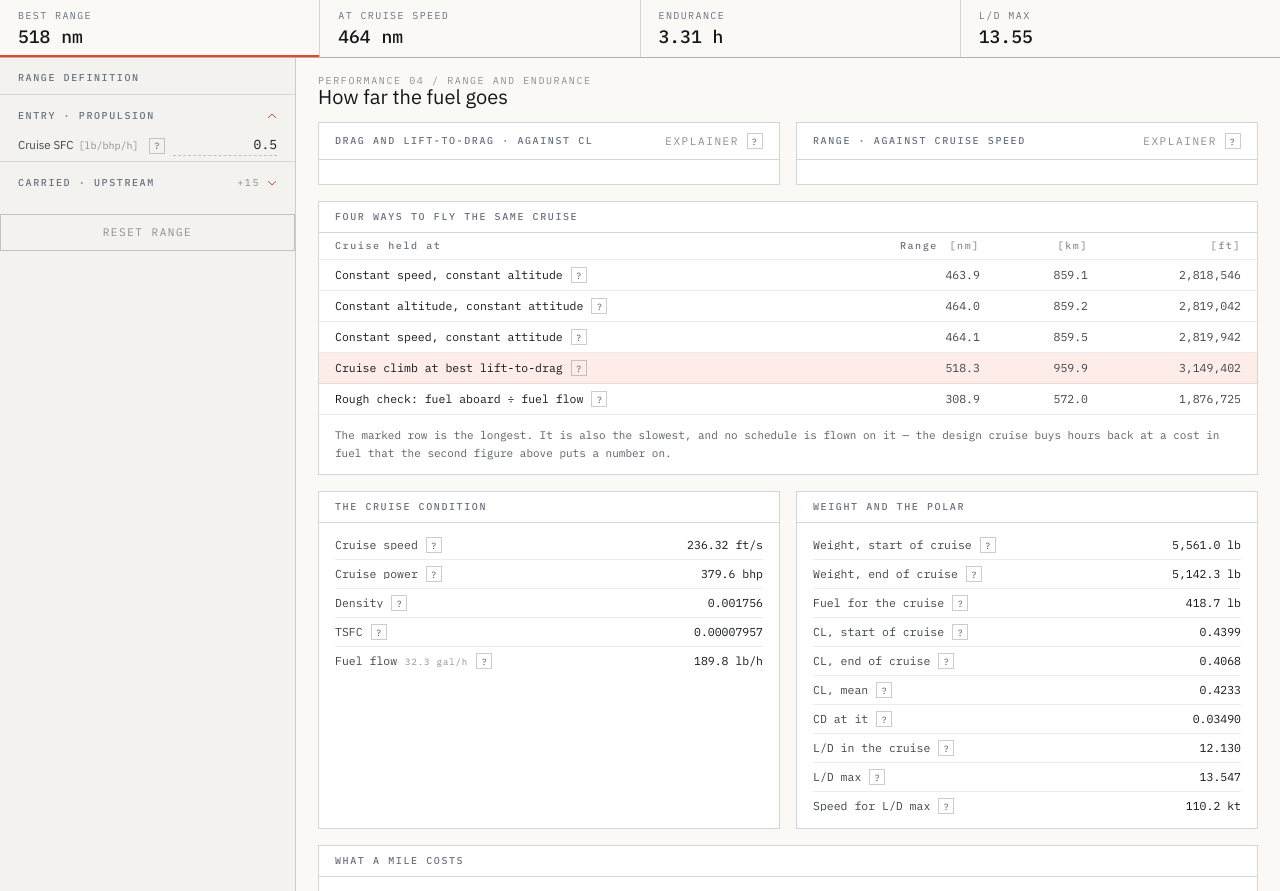
it: Range › resets the Range-owned SFC to provisional
Click the button "RESET RANGE" at coordinates (148, 232), box [0, 214, 295, 251]
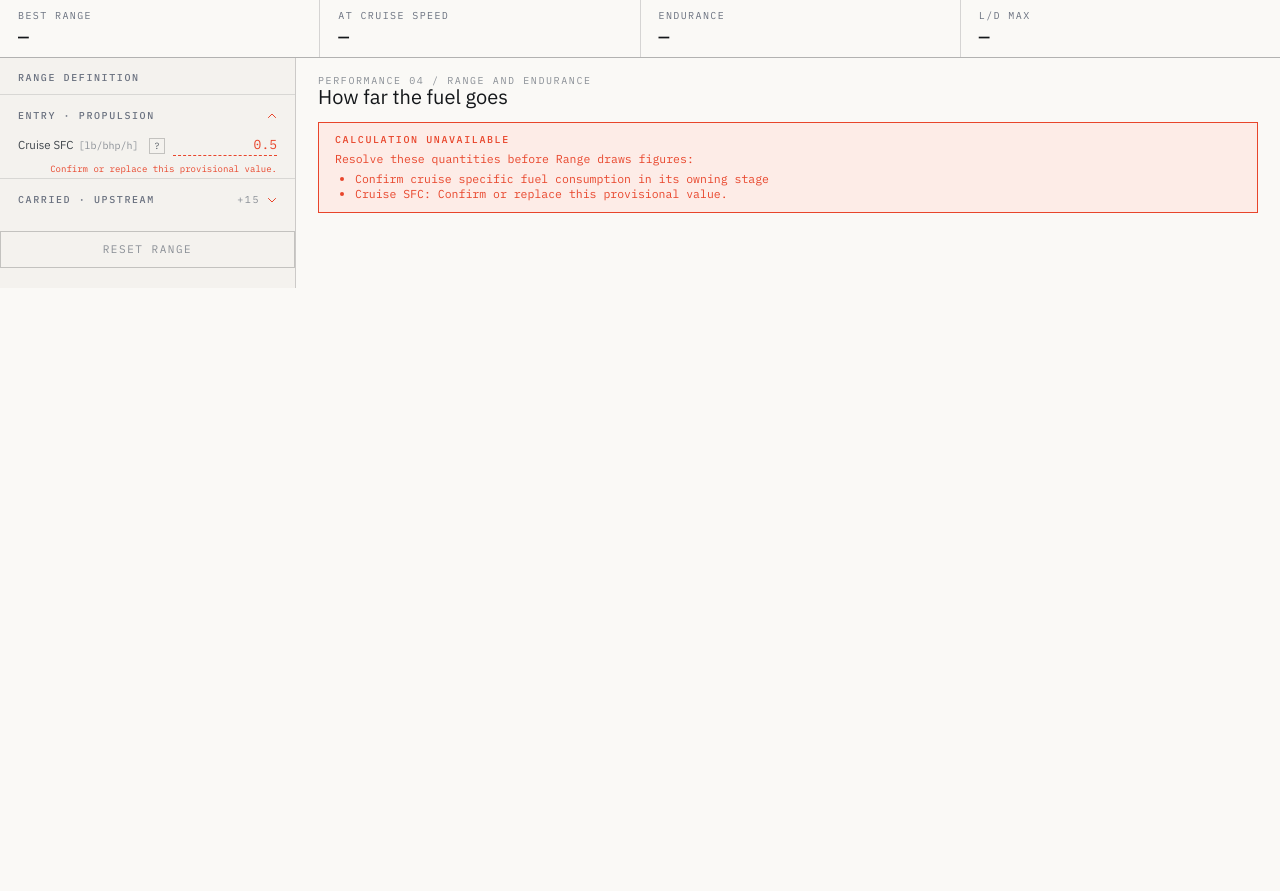
Result: the heading "CALCULATION UNAVAILABLE" is shown at [335, 133, 510, 146]
